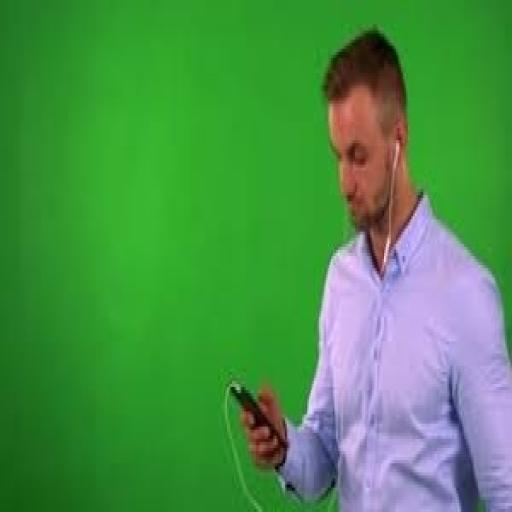listening_to_music: (238, 27, 510, 509)
